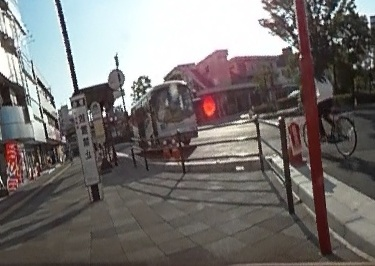person: (309, 62, 339, 137)
